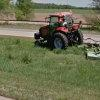Tractor: (30, 4, 93, 59)
